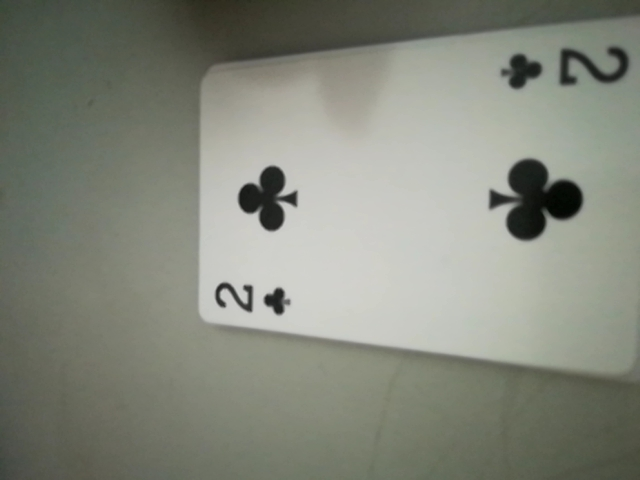mh 2: (500, 32, 640, 101), (209, 270, 299, 325)
